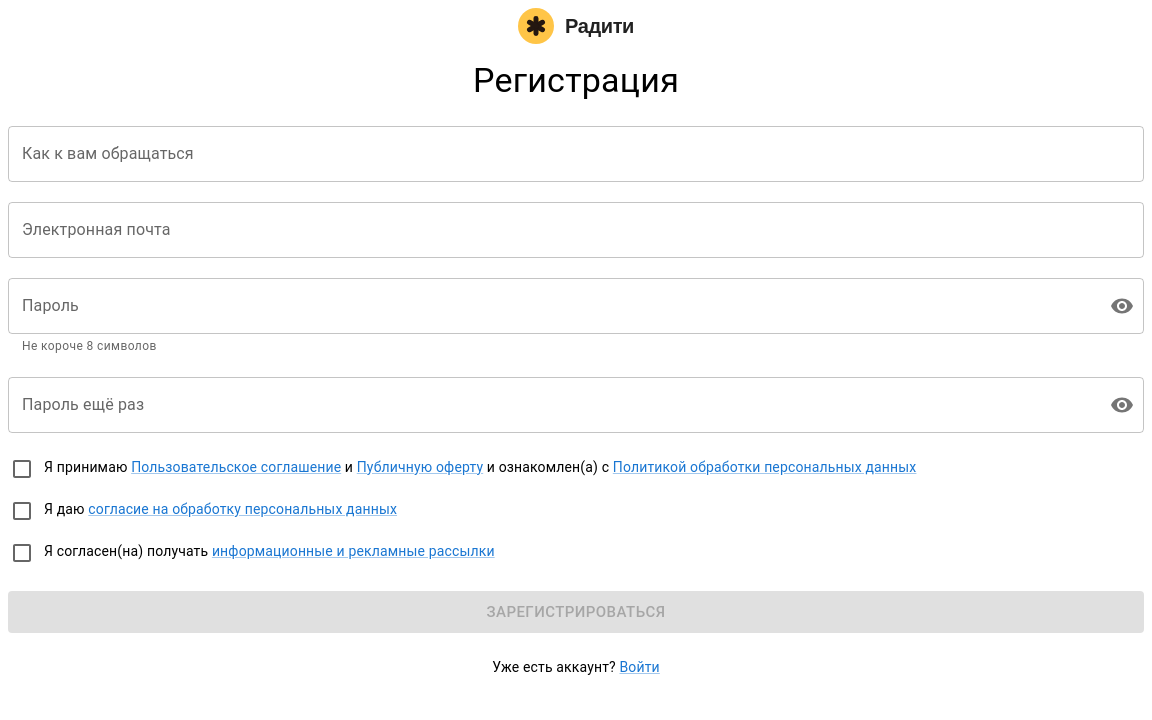
Test: RegisterForm › shows field errors returned by the server
Type "Анна" into the field labelled "Как к вам обращаться" at (576, 154), box x1=8 y1=126 x2=1144 y2=182
Type " anna@example.ru " into the field labelled "Электронная почта" at (576, 230), box x1=8 y1=202 x2=1144 y2=258
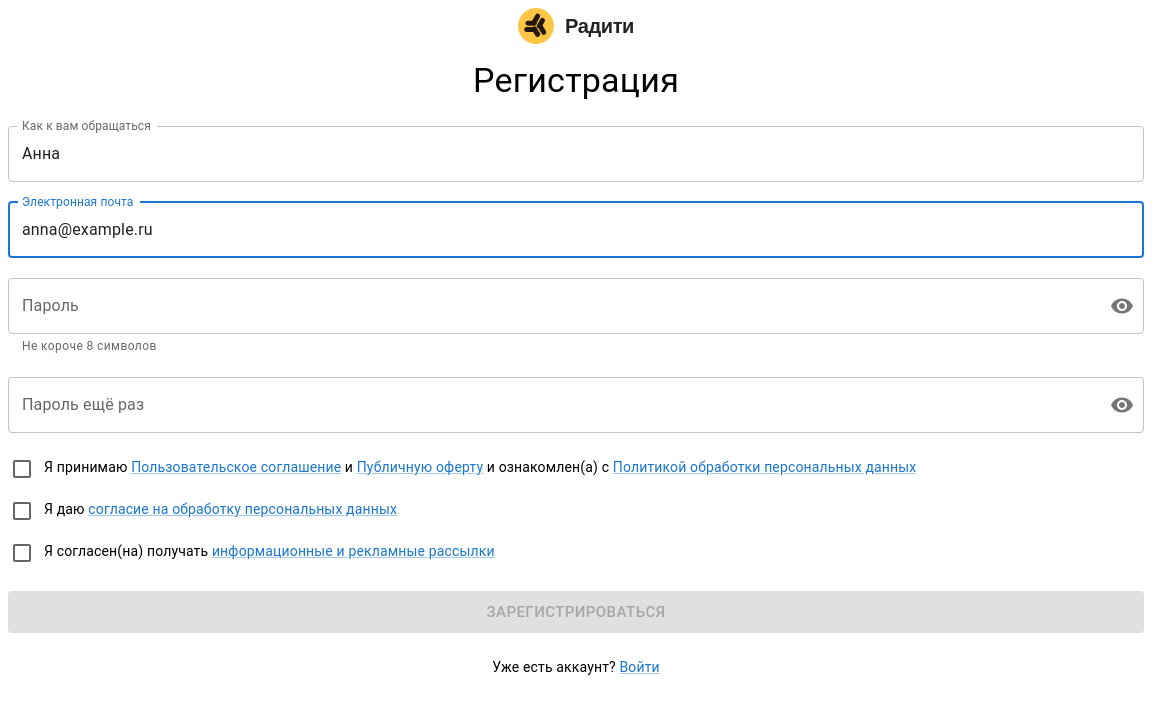
Type "secret-pass" into the password field labelled "Пароль" at (551, 306), box x1=8 y1=278 x2=1094 y2=334
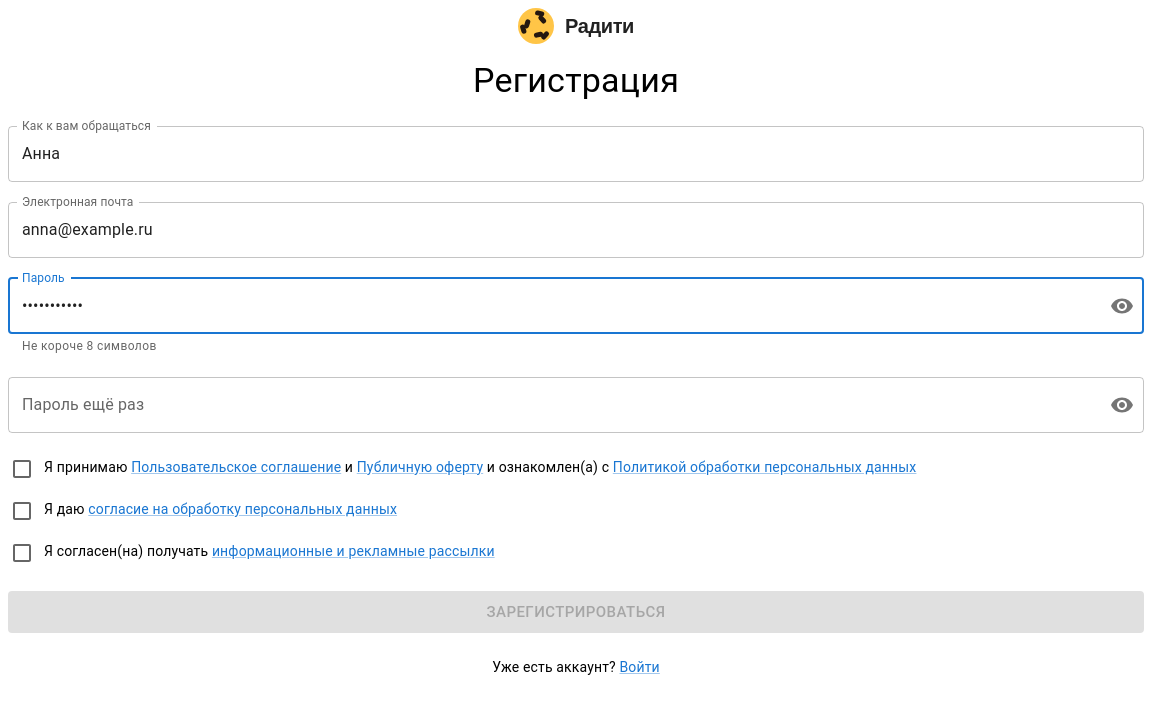
Type "secret-pass" into the password field labelled "Пароль ещё раз" at (551, 405), box x1=8 y1=377 x2=1094 y2=433
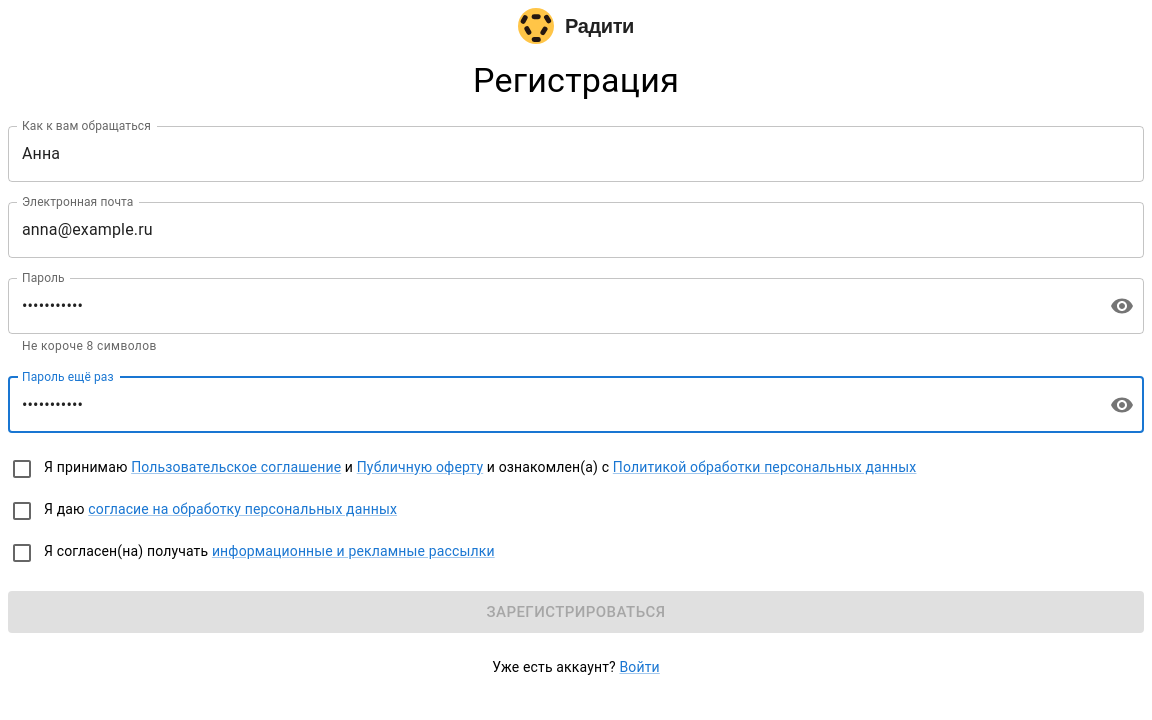
Click the checkbox labelled "Я принимаю" at (463, 469), box x1=10 y1=457 x2=916 y2=481
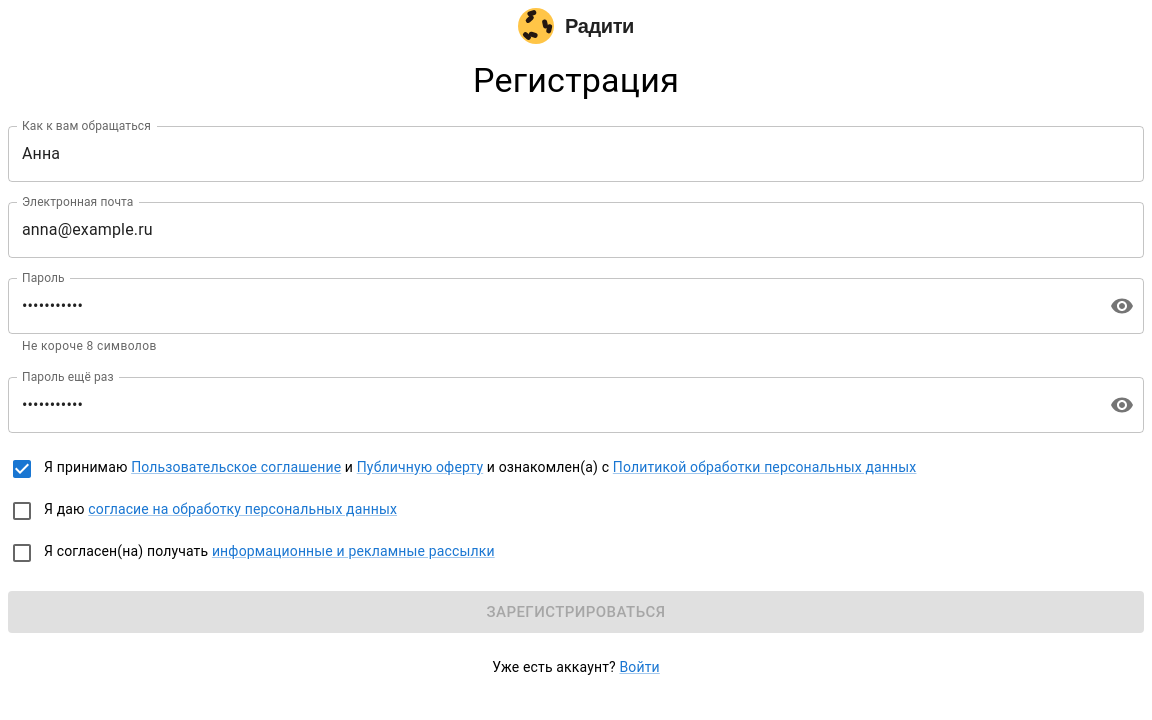
Click the checkbox labelled "Я даю согласие на обработку персональных данных" at (204, 511), box x1=10 y1=499 x2=397 y2=523
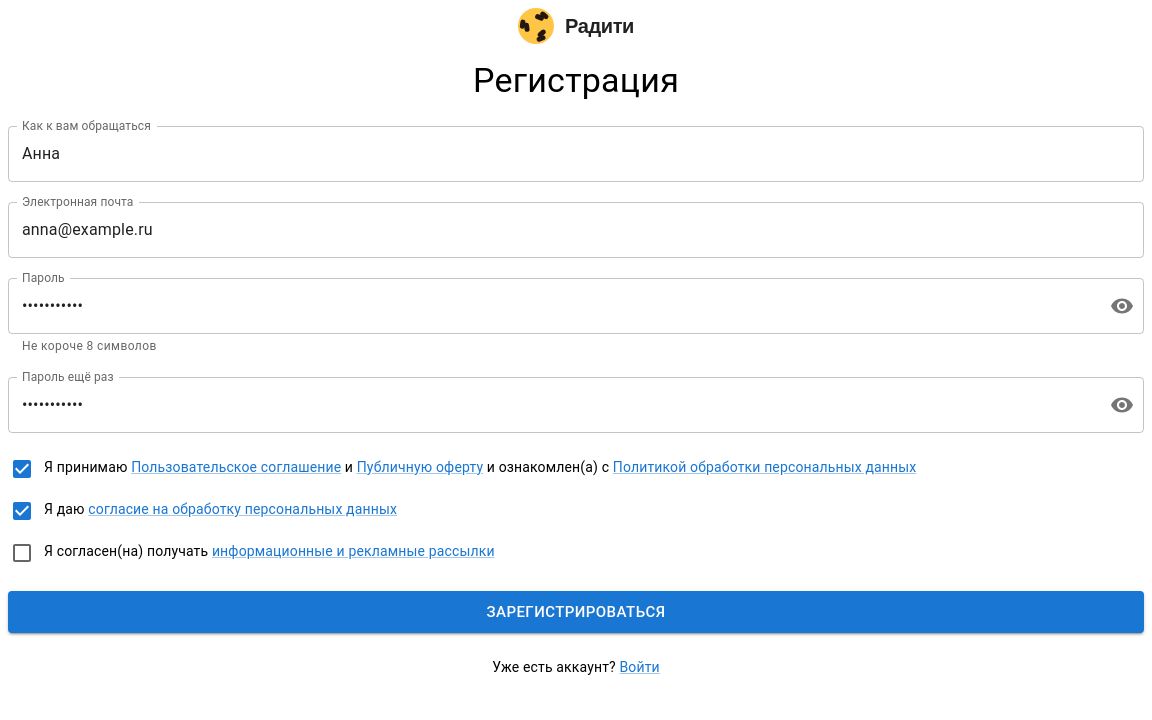
Click the button "Зарегистрироваться" at (576, 612), box x1=8 y1=591 x2=1144 y2=633
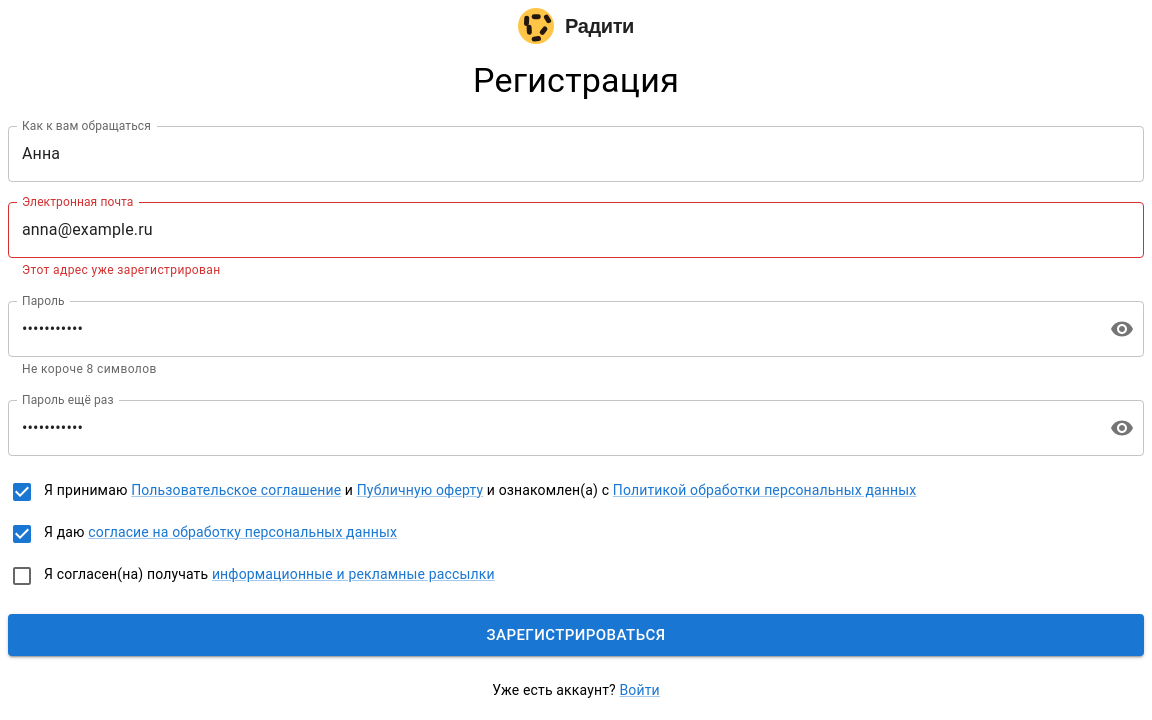
Expected: the text "Этот адрес уже зарегистрирован" is shown, x1=22 y1=263 x2=221 y2=277
